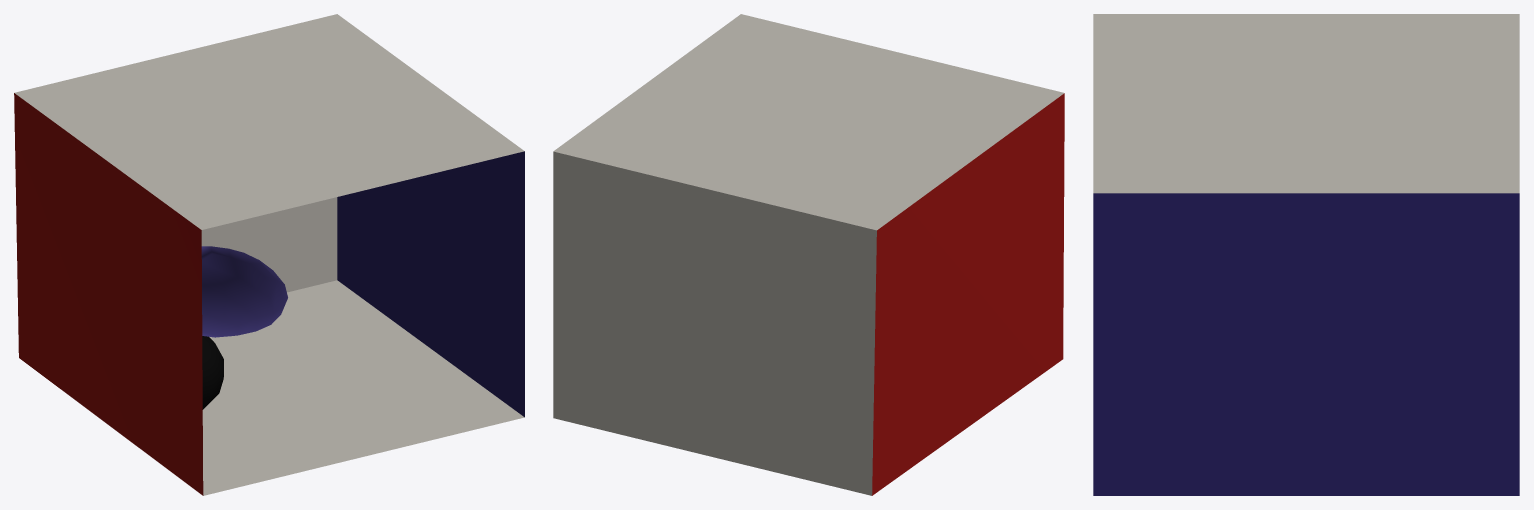
The model's file is CornellBox-Ellipsoid-175.obj.
3 views of the same model, side by side, from view 1: azimuth 30°, elevation 25°; view 2: azimuth 150°, elevation 25°; view 3: azimuth 270°, elevation 25° (orthographic). The views are drawn at different scales.
Parts seen in each view (by area): view 1: ceiling, leftWall, floor, rightWall, backWall, leftSphere, rightSphere; view 2: backWall, ceiling, leftWall; view 3: rightWall, ceiling.
Boxes of the visible parts, left/top/right/bottom form: ceiling: left=14, top=14, right=524, bottom=229; leftWall: left=14, top=93, right=203, bottom=495; floor: left=202, top=280, right=524, bottom=495; rightWall: left=337, top=151, right=524, bottom=417; backWall: left=201, top=197, right=337, bottom=292; leftSphere: left=201, top=246, right=287, bottom=337; rightSphere: left=202, top=336, right=223, bottom=409; backWall: left=553, top=151, right=876, bottom=495; ceiling: left=553, top=14, right=1064, bottom=230; leftWall: left=872, top=93, right=1064, bottom=495; rightWall: left=1093, top=193, right=1519, bottom=495; ceiling: left=1093, top=14, right=1519, bottom=193.
Size of the model in its own units: 2.02 by 1.59 by 2.03.
